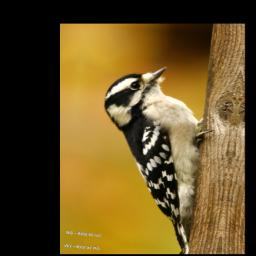Woodpecker: (86, 61, 218, 252)
